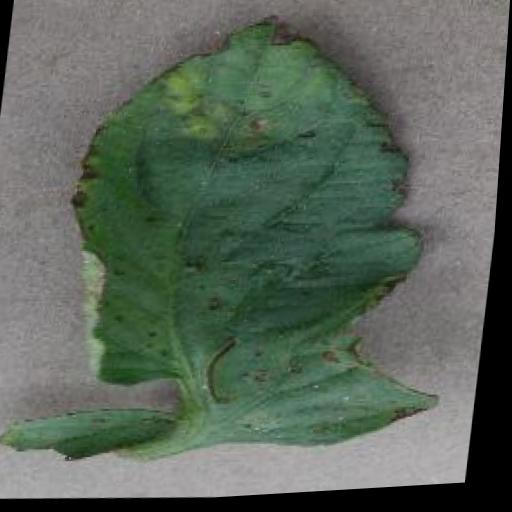Bacterial Spot: (0, 0, 492, 488)
